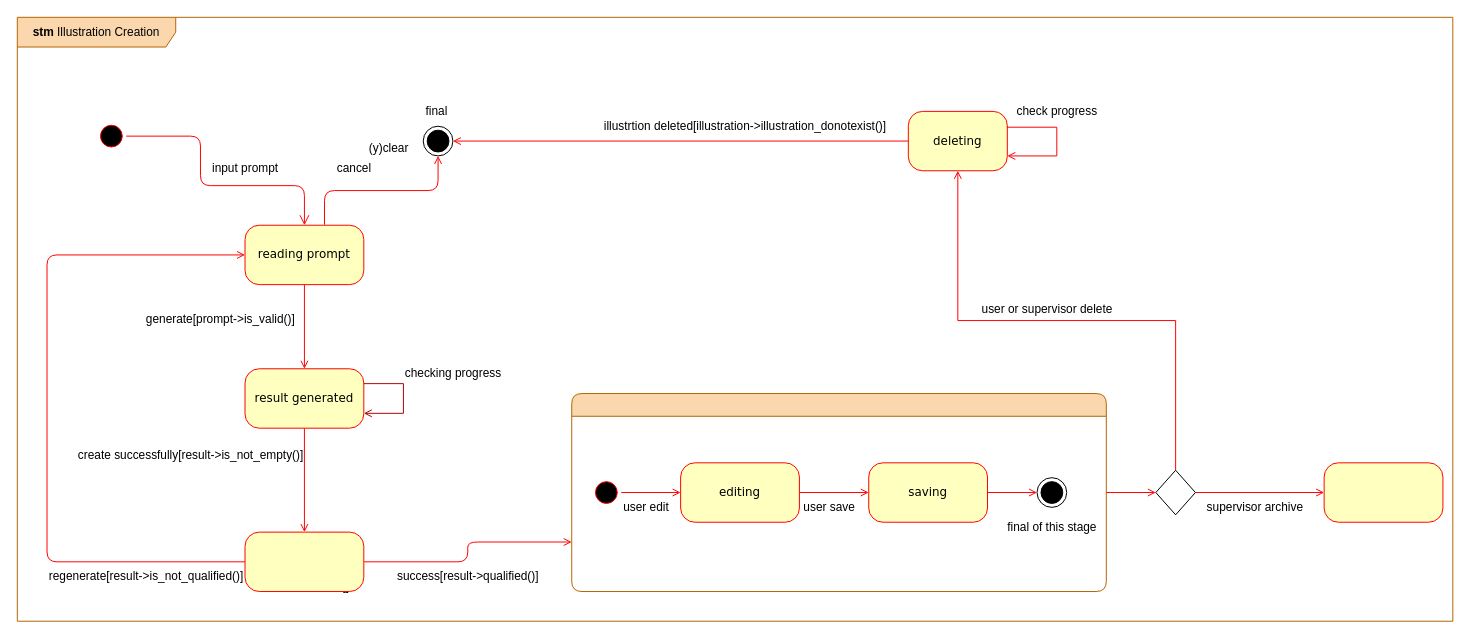
Some shapes in this 1470 by 639 pixel diagram are drawn without their labels. The shapes that lost their labels are listed below. From the top down, each one's box as (x1, y1, x2, y2) in pixels, then its label:
(571, 393, 1106, 592): Operation
(1323, 462, 1443, 522): archive
(244, 531, 364, 592): result checking
